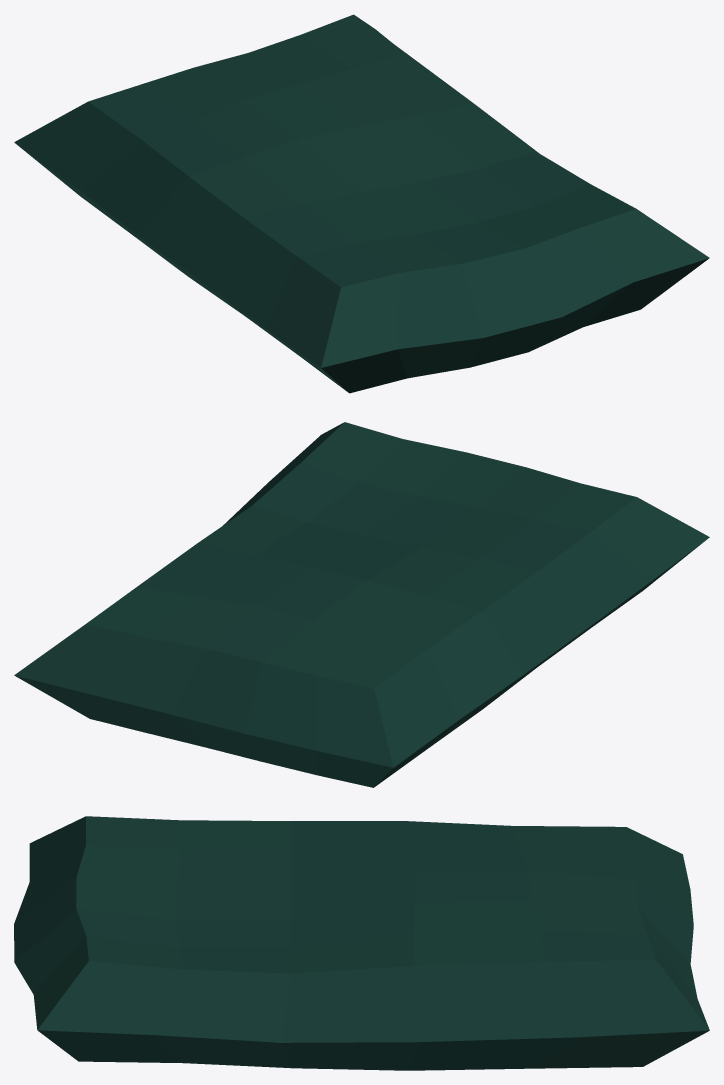
Rendered from pillow.fbx.
The picture shows the model from 3 angles, top to bottom: view 1: azimuth 30°, elevation 25°; view 2: azimuth 150°, elevation 25°; view 3: azimuth 270°, elevation 25°; orthographic projection. The views are drawn at different scales.
Visible parts, largest first — view 1: pillow; view 2: pillow; view 3: pillow.
Part boxes in pixels (x1,y1,x2,y2): pillow: (14,14,709,393); pillow: (14,422,709,787); pillow: (14,816,709,1070).
Size of the model in its own units: 44.43 by 12.1 by 65.76.
